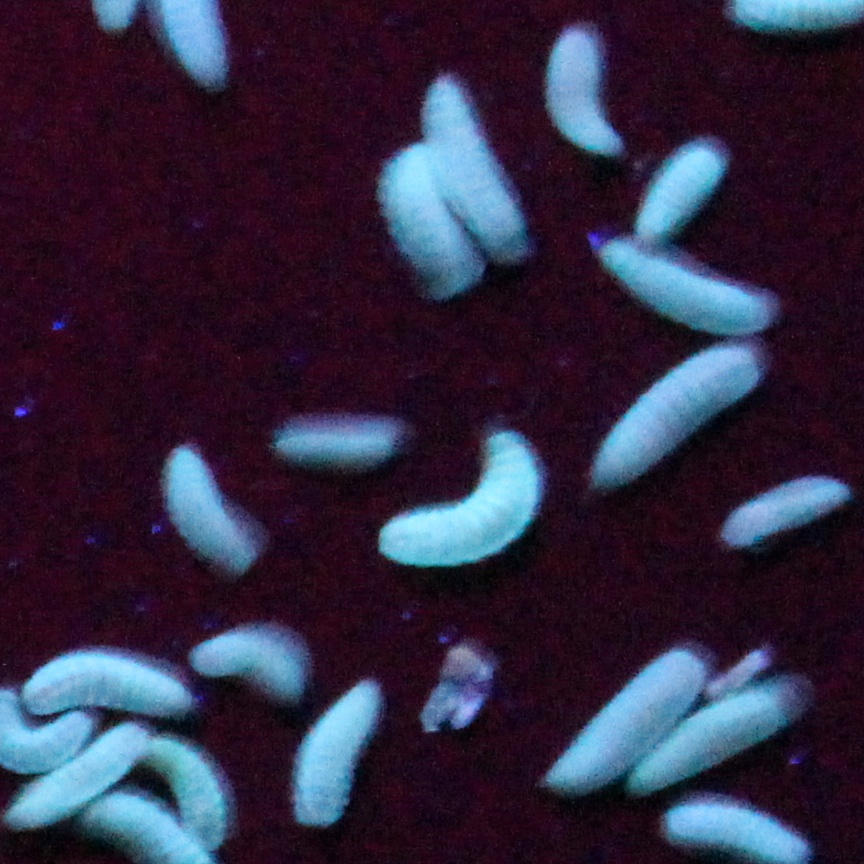larve: (381, 433, 539, 568), (599, 345, 759, 477), (552, 651, 705, 788), (423, 83, 521, 247), (601, 242, 766, 337), (631, 690, 783, 790), (9, 723, 147, 825), (381, 145, 472, 287), (292, 680, 379, 826), (164, 447, 254, 569), (25, 654, 192, 716), (547, 30, 622, 156), (143, 737, 226, 847), (637, 146, 724, 243), (723, 480, 844, 546), (193, 631, 302, 695), (277, 430, 393, 462)
